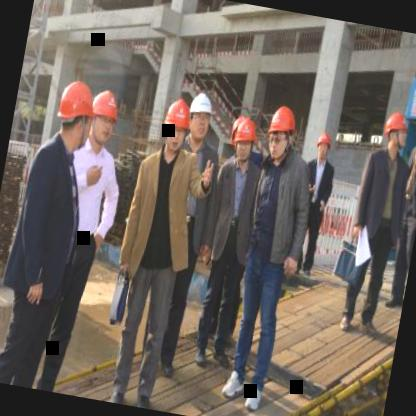helmet: (50, 76, 100, 154), (84, 86, 124, 150), (156, 93, 194, 158), (261, 102, 300, 165), (184, 88, 218, 146), (225, 114, 260, 167), (378, 107, 410, 158), (312, 127, 336, 164), (408, 103, 416, 146)
